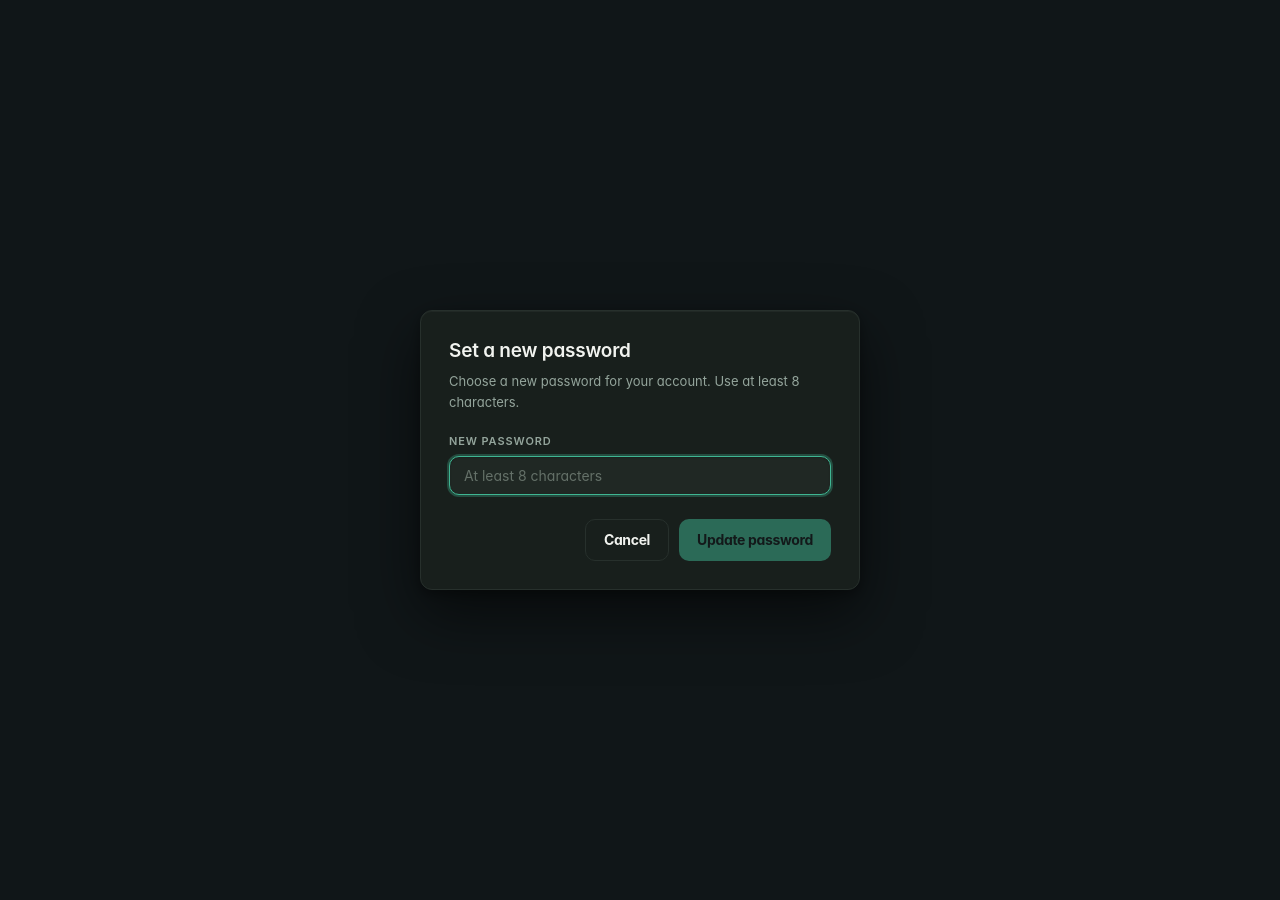
Scenario: ResetPasswordDialog — client-side validation › blocks a short password with an inline error
The image size is (1280, 900).
Type "short" into the password field named "New password" at coordinates (640, 475), box [449,456,831,495]
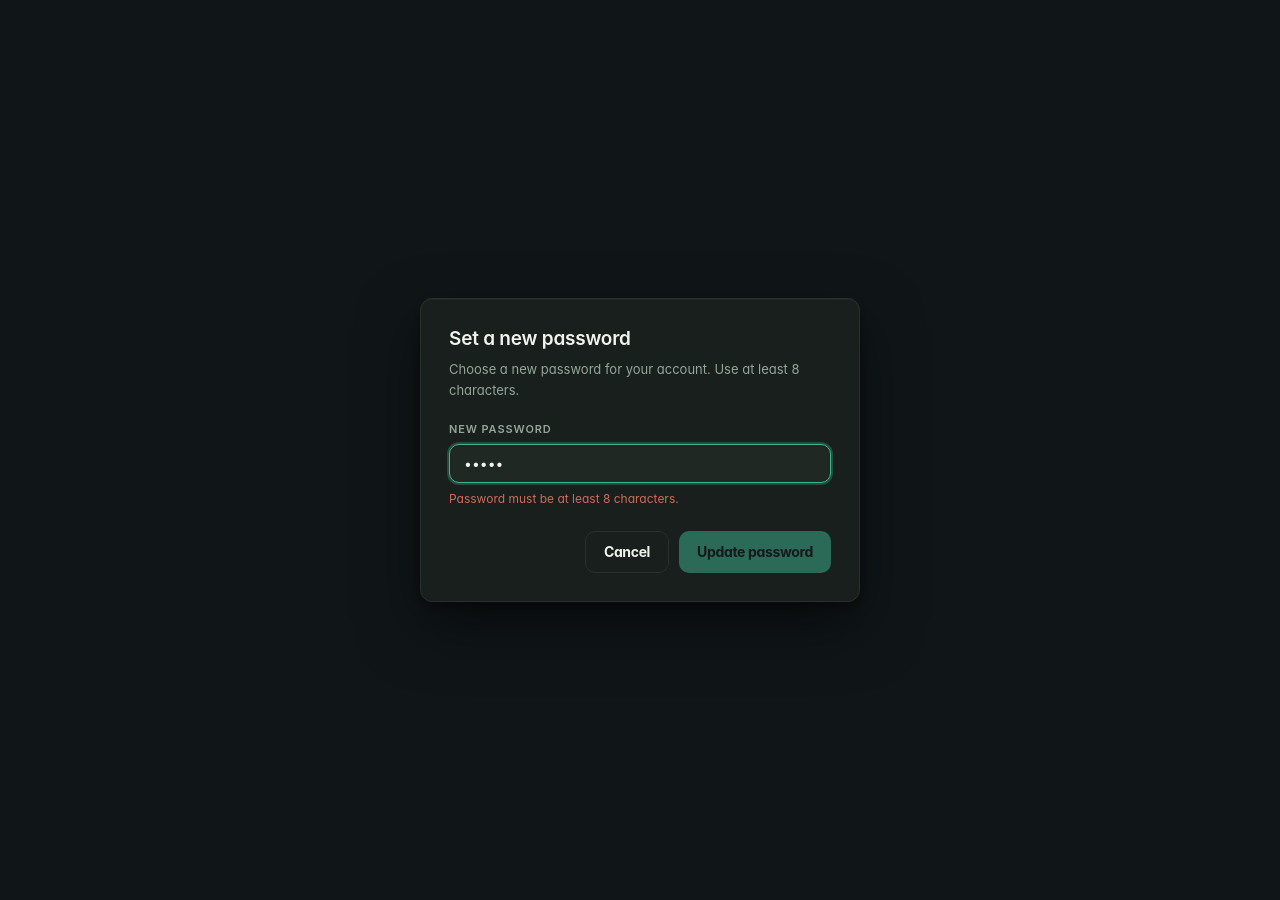
Expected: the button "Update password" is disabled, [679,531,831,573]
Result: the text "Password must be at least 8 characters." is shown at [449,491,679,506]
